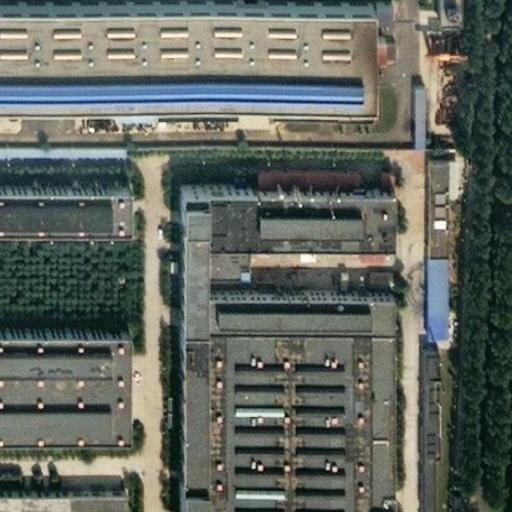building: (160, 170, 372, 512), (412, 146, 444, 324), (0, 168, 110, 213), (407, 323, 422, 512), (0, 141, 128, 162), (99, 80, 221, 101), (186, 224, 236, 263), (426, 30, 466, 56), (252, 80, 318, 95), (318, 80, 355, 101), (398, 64, 409, 126), (355, 17, 366, 36), (355, 0, 374, 6)
